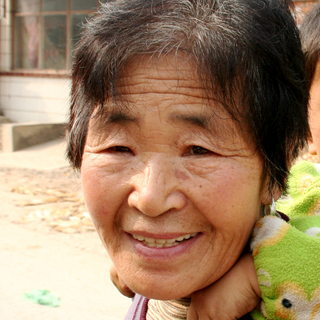eye: (171, 135, 232, 166), (96, 138, 141, 166)
